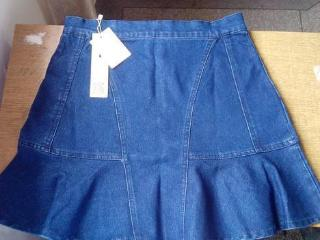skirt: (0, 12, 319, 239)
